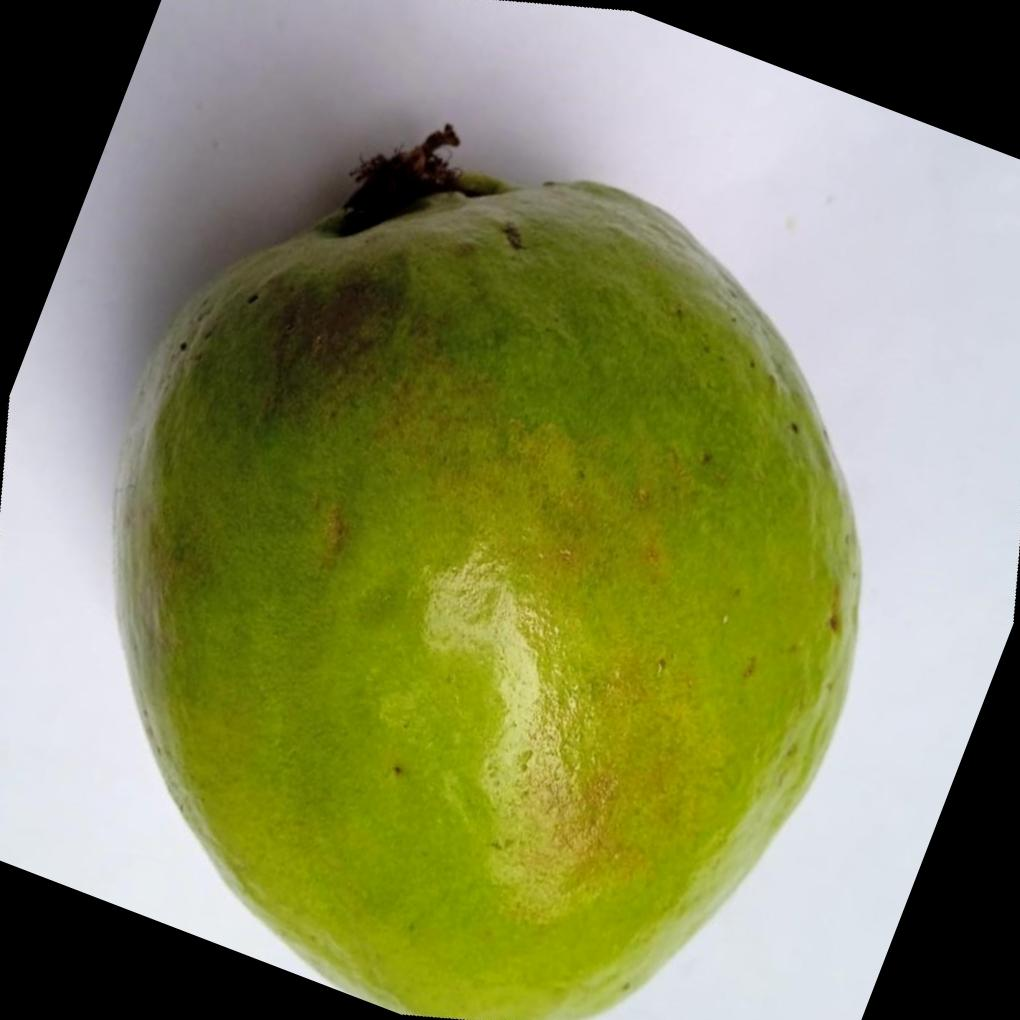FreshGuava: (107, 160, 860, 1020)
